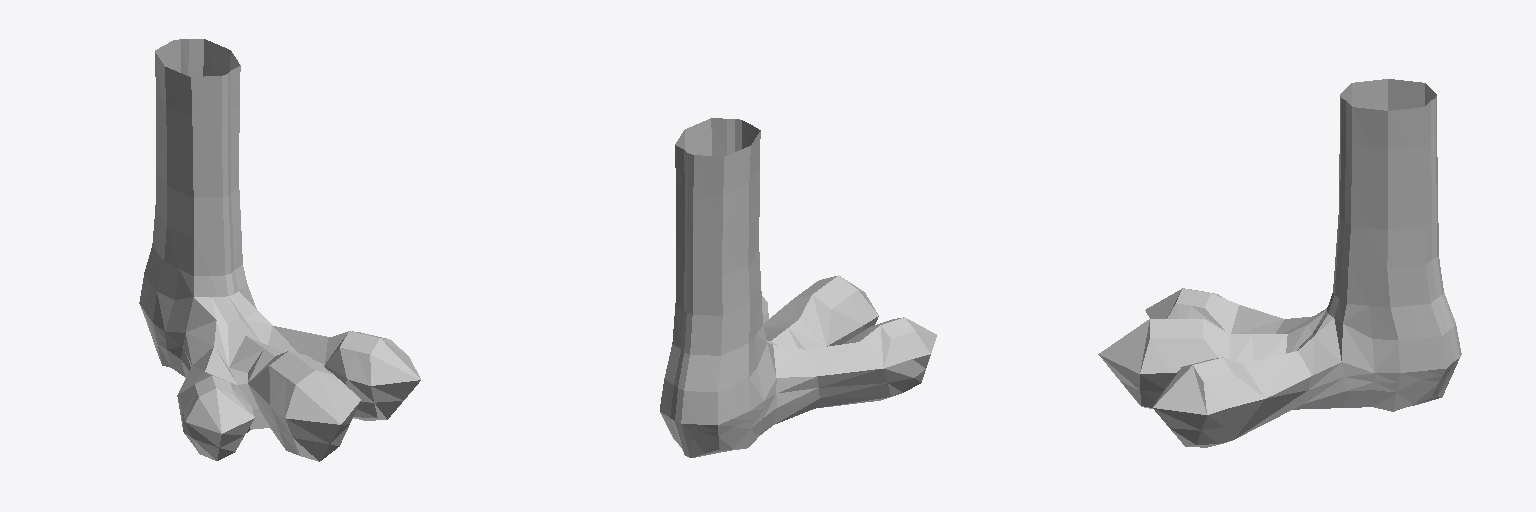
File: rdfoot.obj
3 views of the same model, side by side, from view 1: azimuth 30°, elevation 25°; view 2: azimuth 150°, elevation 25°; view 3: azimuth 270°, elevation 25° (orthographic).
Visible parts, largest first — view 1: pasted__pCube29 group; view 2: pasted__pCube29 group; view 3: pasted__pCube29 group.
Boxes of the visible parts, x1,y1,x2,y2 form: pasted__pCube29 group: [139, 39, 420, 461]; pasted__pCube29 group: [660, 118, 936, 457]; pasted__pCube29 group: [1098, 79, 1461, 447].
Bounding box in the file's own units: 2.41 × 3.14 × 3.24.